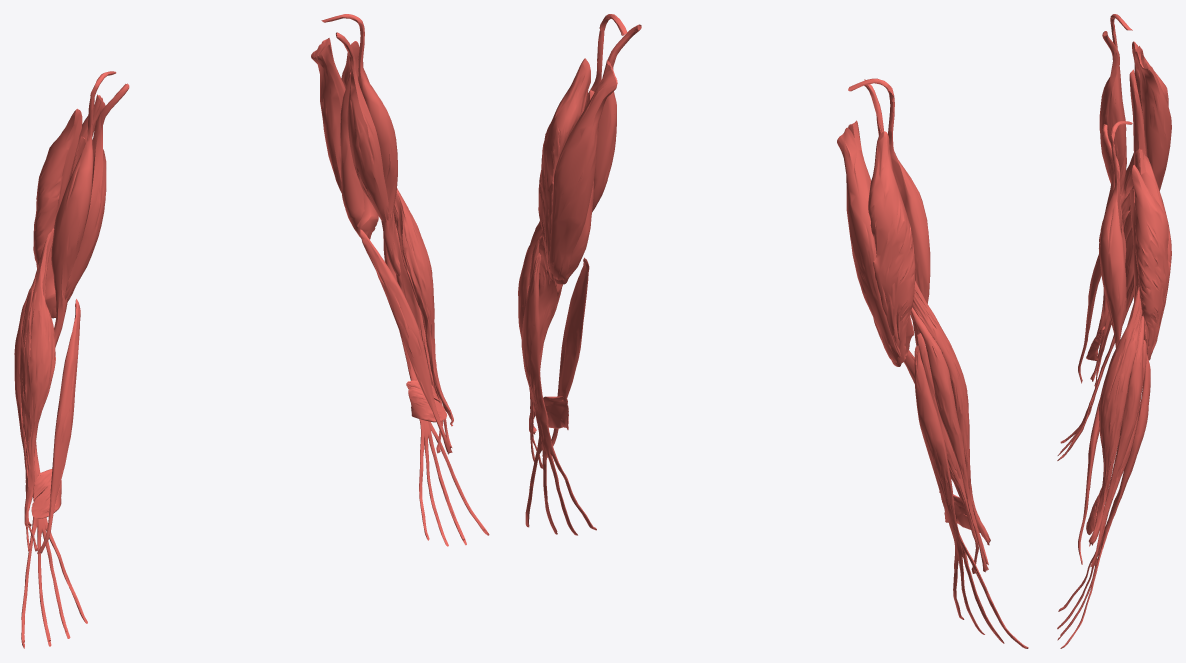
File: supplement-elbow-forearm-muscle.glb
3 views of the same model, side by side, from view 1: azimuth 30°, elevation 25°; view 2: azimuth 150°, elevation 25°; view 3: azimuth 270°, elevation 25° (orthographic). The views are drawn at different scales.
Visible parts, largest first — view 1: elbow-forearm:brachioradialis:isa:FJ1487, elbow-forearm:biceps-brachii:isa:FJ1478, elbow-forearm:biceps-brachii:isa:FJ1512M, elbow-forearm:brachioradialis:isa:FJ1487M, elbow-forearm:triceps-brachii:isa:FJ1477, elbow-forearm:biceps-brachii:isa:FJ1478M, elbow-forearm:flexor-carpi-radialis:isa:FJ1496M, elbow-forearm:flexor-carpi-radialis:isa:FJ1496, elbow-forearm:biceps-brachii:isa:FJ1512, elbow-forearm:triceps-brachii:isa:FJ1479M, elbow-forearm:triceps-brachii:isa:FJ1480M, elbow-forearm:extensor-digitorum:isa:FJ1492M (+6 smaller); view 2: elbow-forearm:triceps-brachii:isa:FJ1477, elbow-forearm:triceps-brachii:isa:FJ1479M, elbow-forearm:triceps-brachii:isa:FJ1479, elbow-forearm:extensor-digitorum:isa:FJ1492, elbow-forearm:extensor-digitorum:isa:FJ1492M, elbow-forearm:triceps-brachii:isa:FJ1477M, elbow-forearm:biceps-brachii:isa:FJ1478, elbow-forearm:extensor-carpi-radialis-longus:isa:FJ1490, elbow-forearm:brachioradialis:isa:FJ1487, elbow-forearm:flexor-carpi-radialis:isa:FJ1496M, elbow-forearm:biceps-brachii:isa:FJ1512M, elbow-forearm:brachioradialis:isa:FJ1487M (+5 smaller); view 3: elbow-forearm:triceps-brachii:isa:FJ1477M, elbow-forearm:brachioradialis:isa:FJ1487M, elbow-forearm:biceps-brachii:isa:FJ1478M, elbow-forearm:triceps-brachii:isa:FJ1479, elbow-forearm:extensor-digitorum:isa:FJ1492M, elbow-forearm:biceps-brachii:isa:FJ1512, elbow-forearm:extensor-carpi-radialis-longus:isa:FJ1490M, elbow-forearm:triceps-brachii:isa:FJ1479M, elbow-forearm:triceps-brachii:isa:FJ1480, elbow-forearm:extensor-digitorum:isa:FJ1492, elbow-forearm:flexor-carpi-radialis:isa:FJ1496M, elbow-forearm:flexor-carpi-radialis:isa:FJ1496 (+10 smaller).
Boxes of the visible parts, x1=… form: elbow-forearm:brachioradialis:isa:FJ1487: x1=19, y1=228, x2=55, y2=529; elbow-forearm:biceps-brachii:isa:FJ1478: x1=51, y1=71, x2=116, y2=347; elbow-forearm:biceps-brachii:isa:FJ1512M: x1=336, y1=32, x2=389, y2=222; elbow-forearm:brachioradialis:isa:FJ1487M: x1=393, y1=188, x2=453, y2=426; elbow-forearm:triceps-brachii:isa:FJ1477: x1=33, y1=108, x2=82, y2=268; elbow-forearm:biceps-brachii:isa:FJ1478M: x1=321, y1=14, x2=400, y2=276; elbow-forearm:flexor-carpi-radialis:isa:FJ1496M: x1=360, y1=229, x2=452, y2=454; elbow-forearm:flexor-carpi-radialis:isa:FJ1496: x1=37, y1=299, x2=80, y2=553; elbow-forearm:biceps-brachii:isa:FJ1512: x1=64, y1=83, x2=129, y2=299; elbow-forearm:triceps-brachii:isa:FJ1479M: x1=311, y1=38, x2=345, y2=193; elbow-forearm:triceps-brachii:isa:FJ1480M: x1=340, y1=71, x2=378, y2=239; elbow-forearm:extensor-digitorum:isa:FJ1492M: x1=383, y1=233, x2=489, y2=546; elbow-forearm:triceps-brachii:isa:FJ1477: x1=868, y1=131, x2=915, y2=363; elbow-forearm:triceps-brachii:isa:FJ1479M: x1=548, y1=60, x2=617, y2=280; elbow-forearm:triceps-brachii:isa:FJ1479: x1=837, y1=120, x2=901, y2=362; elbow-forearm:extensor-digitorum:isa:FJ1492: x1=914, y1=345, x2=1028, y2=648; elbow-forearm:extensor-digitorum:isa:FJ1492M: x1=521, y1=253, x2=596, y2=535; elbow-forearm:triceps-brachii:isa:FJ1477M: x1=538, y1=58, x2=590, y2=279; elbow-forearm:biceps-brachii:isa:FJ1478: x1=848, y1=78, x2=930, y2=346; elbow-forearm:extensor-carpi-radialis-longus:isa:FJ1490: x1=911, y1=307, x2=988, y2=572; elbow-forearm:brachioradialis:isa:FJ1487: x1=912, y1=280, x2=990, y2=545; elbow-forearm:flexor-carpi-radialis:isa:FJ1496M: x1=542, y1=257, x2=589, y2=457; elbow-forearm:biceps-brachii:isa:FJ1512M: x1=592, y1=24, x2=641, y2=212; elbow-forearm:brachioradialis:isa:FJ1487M: x1=529, y1=221, x2=561, y2=434; elbow-forearm:triceps-brachii:isa:FJ1477M: x1=1132, y1=165, x2=1170, y2=360; elbow-forearm:brachioradialis:isa:FJ1487M: x1=1088, y1=280, x2=1142, y2=546; elbow-forearm:biceps-brachii:isa:FJ1478M: x1=1099, y1=121, x2=1132, y2=347; elbow-forearm:triceps-brachii:isa:FJ1479: x1=1135, y1=46, x2=1171, y2=190; elbow-forearm:extensor-digitorum:isa:FJ1492M: x1=1057, y1=354, x2=1150, y2=648; elbow-forearm:biceps-brachii:isa:FJ1512: x1=1099, y1=31, x2=1126, y2=186; elbow-forearm:extensor-carpi-radialis-longus:isa:FJ1490M: x1=1090, y1=316, x2=1144, y2=567; elbow-forearm:triceps-brachii:isa:FJ1479M: x1=1135, y1=148, x2=1171, y2=354; elbow-forearm:triceps-brachii:isa:FJ1480: x1=1129, y1=69, x2=1146, y2=191; elbow-forearm:extensor-digitorum:isa:FJ1492: x1=1057, y1=275, x2=1133, y2=460; elbow-forearm:flexor-carpi-radialis:isa:FJ1496M: x1=1078, y1=398, x2=1100, y2=564; elbow-forearm:flexor-carpi-radialis:isa:FJ1496: x1=1078, y1=210, x2=1129, y2=383.
Size of the model in its own units: 0.6101 by 0.6614 by 0.1438.
